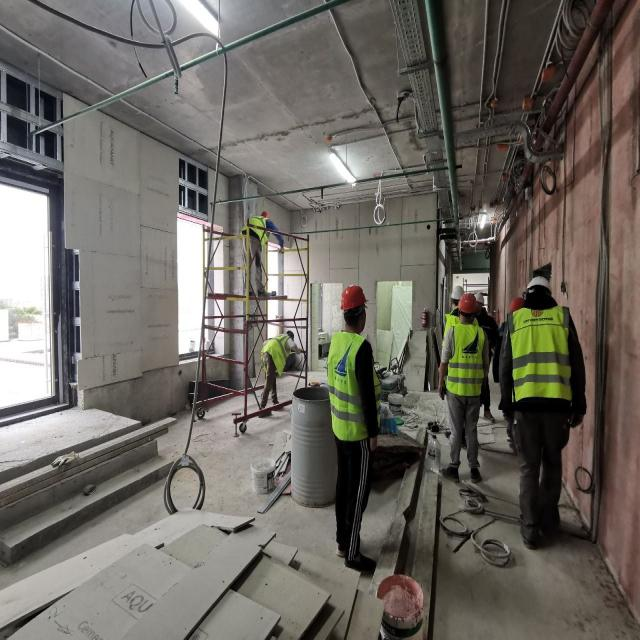Helmet: (341, 285, 371, 315), (459, 294, 478, 316), (528, 279, 554, 295), (511, 297, 525, 311), (452, 287, 463, 301), (262, 212, 271, 219)
Jacket: (511, 307, 570, 407), (329, 331, 369, 436), (444, 326, 487, 393), (264, 335, 294, 367), (244, 218, 270, 241)
